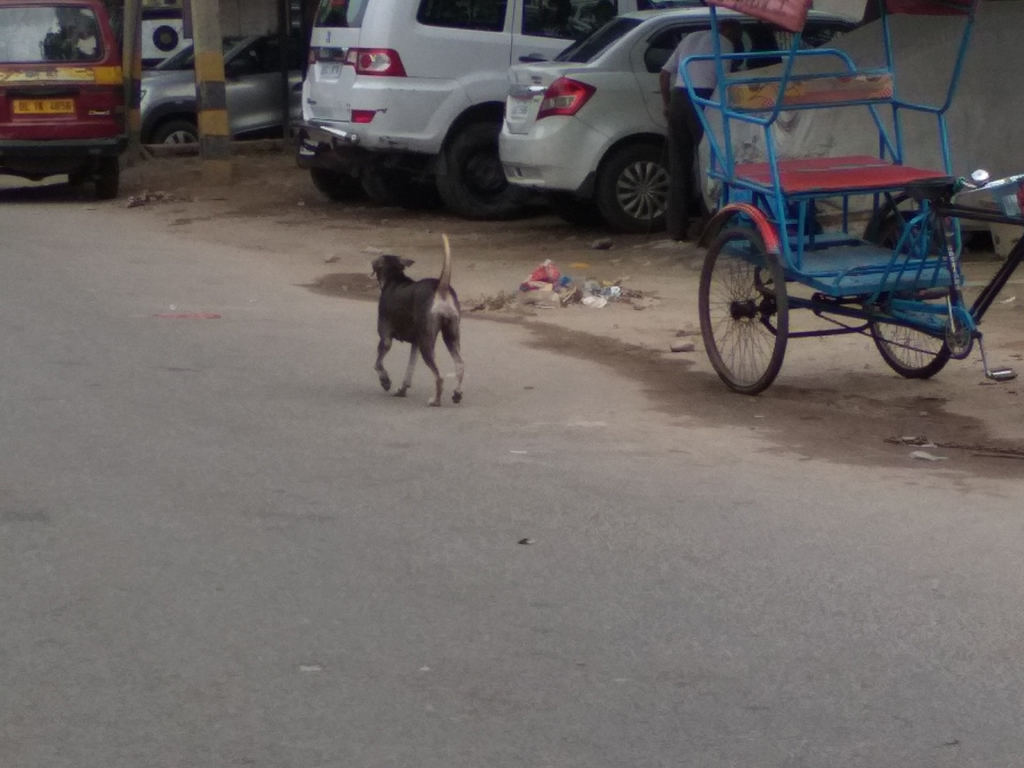dog: (367, 231, 467, 409)
